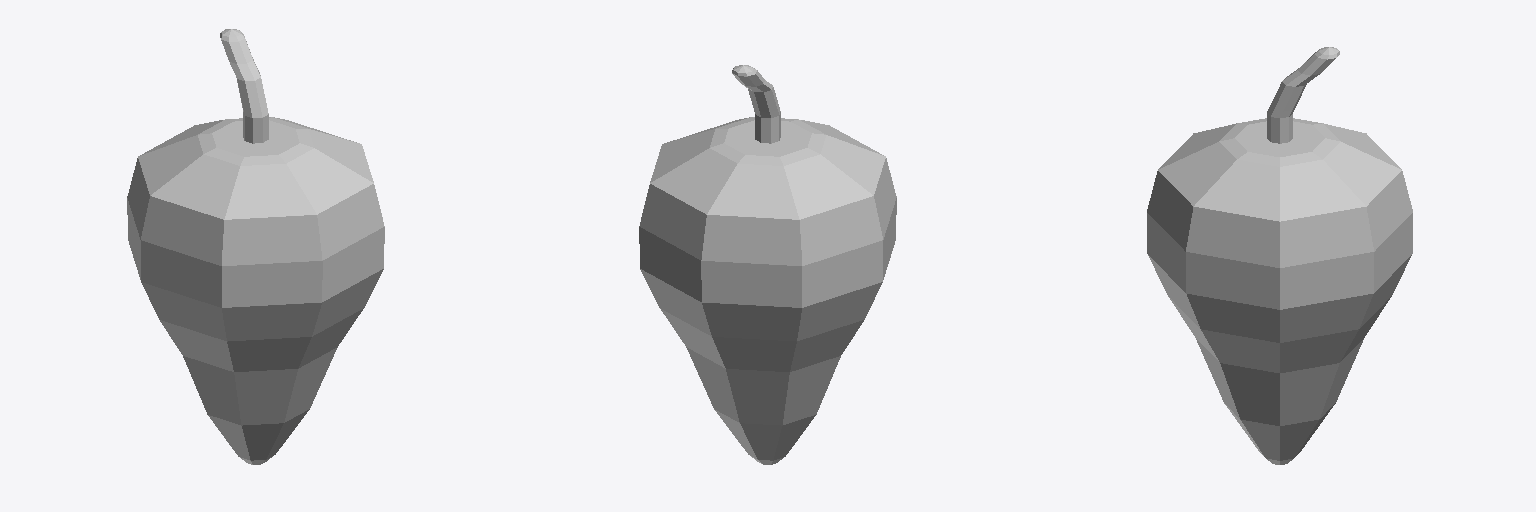
File: Straberry.obj
The picture shows the model from 3 angles: view 1: azimuth 30°, elevation 25°; view 2: azimuth 150°, elevation 25°; view 3: azimuth 270°, elevation 25°; orthographic projection.
Parts seen in each view (by area): view 1: Frutilla; view 2: Frutilla; view 3: Frutilla.
Part boxes in pixels (x1,y1,x2,y2): Frutilla: (127,29,384,464); Frutilla: (639,65,896,464); Frutilla: (1147,47,1412,464).
Size of the model in its own units: 33.78 by 58.36 by 33.78.